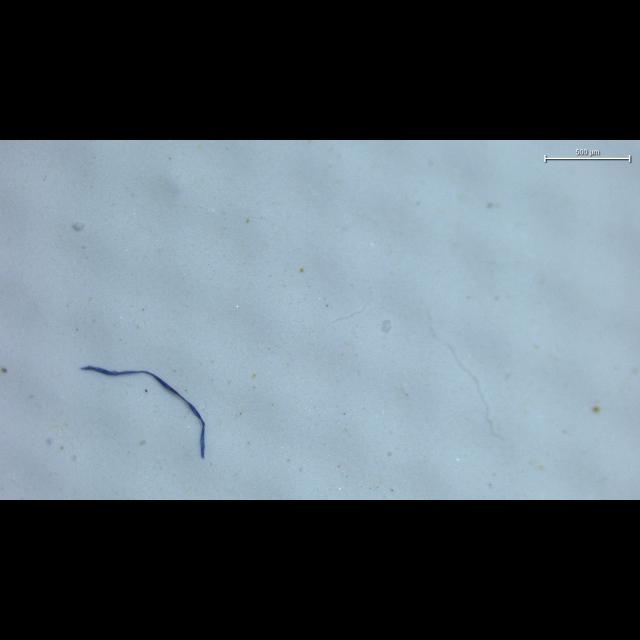Fibre: (81, 366, 205, 458)
Fragment: (72, 222, 85, 231)
